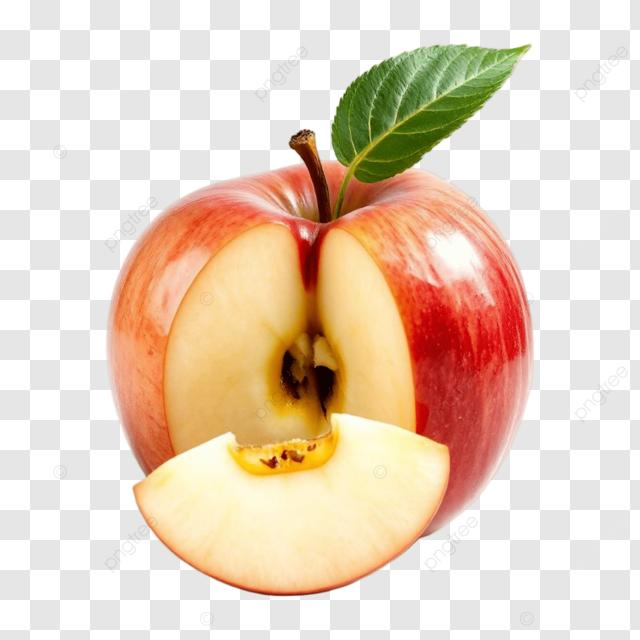apples: (85, 45, 565, 621)
